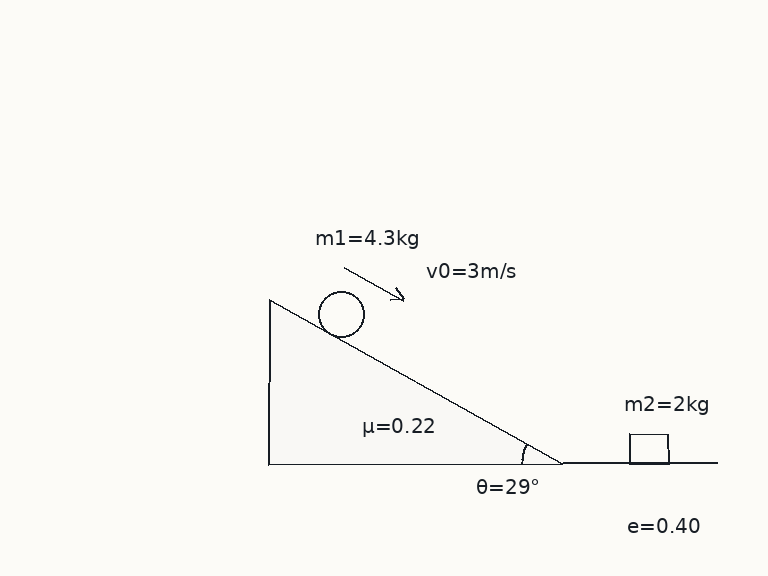ball: (316, 289, 366, 339)
block: (627, 432, 671, 465)
ramp: (266, 298, 564, 465)
